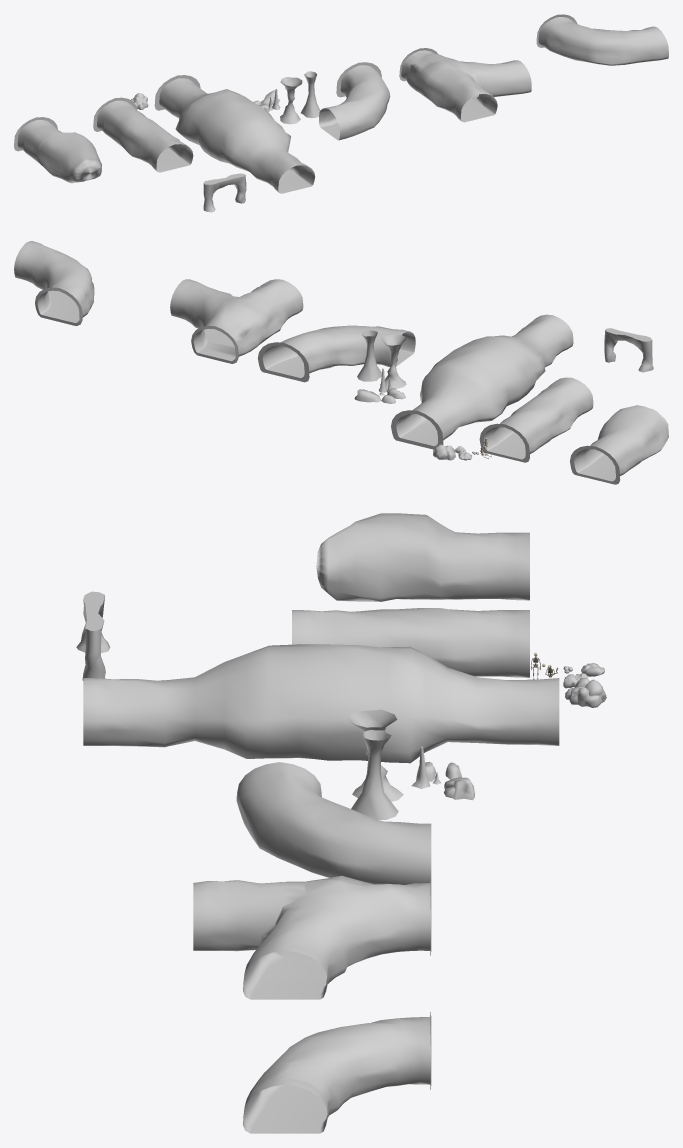
File: Cave_set.fbx
The picture shows the model from 3 angles, top to bottom: view 1: azimuth 30°, elevation 25°; view 2: azimuth 150°, elevation 25°; view 3: azimuth 270°, elevation 25°; orthographic projection. The views are drawn at different scales.
Parts seen in each view (by area): view 1: Cave_Set4, Cave_Set2, Cave_Set1, Cave_Set5, Cave_Set6, Cave_Set3, Cave_set, Cave_rocks2, Cave_rocks1; view 2: Cave_Set4, Cave_Set2, Cave_Set3, Cave_Set5, Cave_Set6, Cave_Set1, Cave_set, Cave_rocks2, Cave_rocks1; view 3: Cave_Set4, Cave_Set2, Cave_Set6, Cave_Set3, Cave_Set1, Cave_Set5, Cave_rocks1, Cave_set, Cave_rocks2, Rocks1.
Boxes of the visible parts, x1,y1,x2,y2 form: Cave_Set4: [154, 75, 315, 193]; Cave_Set2: [399, 48, 531, 122]; Cave_Set1: [536, 14, 668, 65]; Cave_Set5: [93, 97, 193, 172]; Cave_Set6: [14, 117, 101, 183]; Cave_Set3: [319, 62, 390, 140]; Cave_set: [203, 173, 246, 212]; Cave_rocks2: [280, 77, 302, 124]; Cave_rocks1: [301, 71, 320, 118]; Cave_Set4: [391, 314, 573, 449]; Cave_Set2: [170, 279, 303, 363]; Cave_Set3: [257, 325, 415, 382]; Cave_Set5: [479, 377, 593, 462]; Cave_Set6: [570, 405, 668, 484]; Cave_Set1: [14, 241, 94, 325]; Cave_set: [604, 328, 653, 372]; Cave_rocks2: [380, 334, 406, 389]; Cave_rocks1: [357, 330, 381, 381]; Cave_Set4: [83, 644, 559, 763]; Cave_Set2: [193, 875, 431, 999]; Cave_Set6: [316, 513, 529, 601]; Cave_Set3: [236, 762, 431, 884]; Cave_Set1: [243, 1012, 431, 1133]; Cave_Set5: [292, 608, 529, 677]; Cave_rocks1: [351, 730, 398, 819]; Cave_set: [76, 591, 110, 680]; Cave_rocks2: [347, 709, 403, 801]; Rocks1: [565, 678, 606, 707].
Bounding box in the file's own units: 9006 × 653 × 3543.
